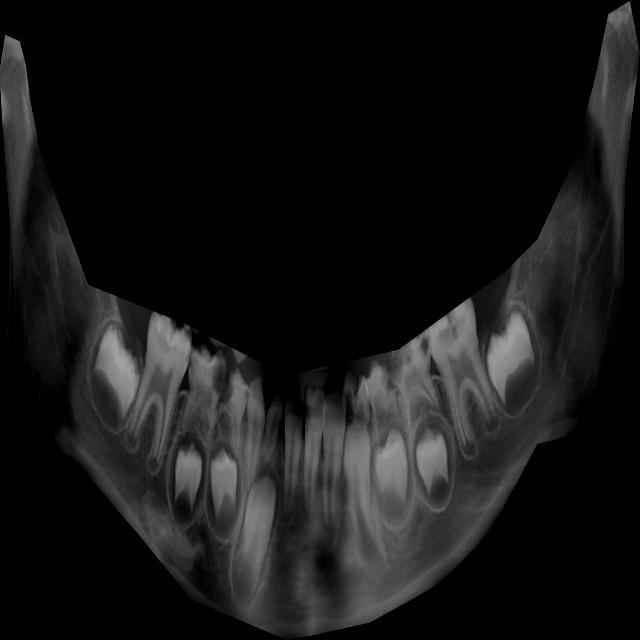mandibula: (0, 1, 640, 640)
